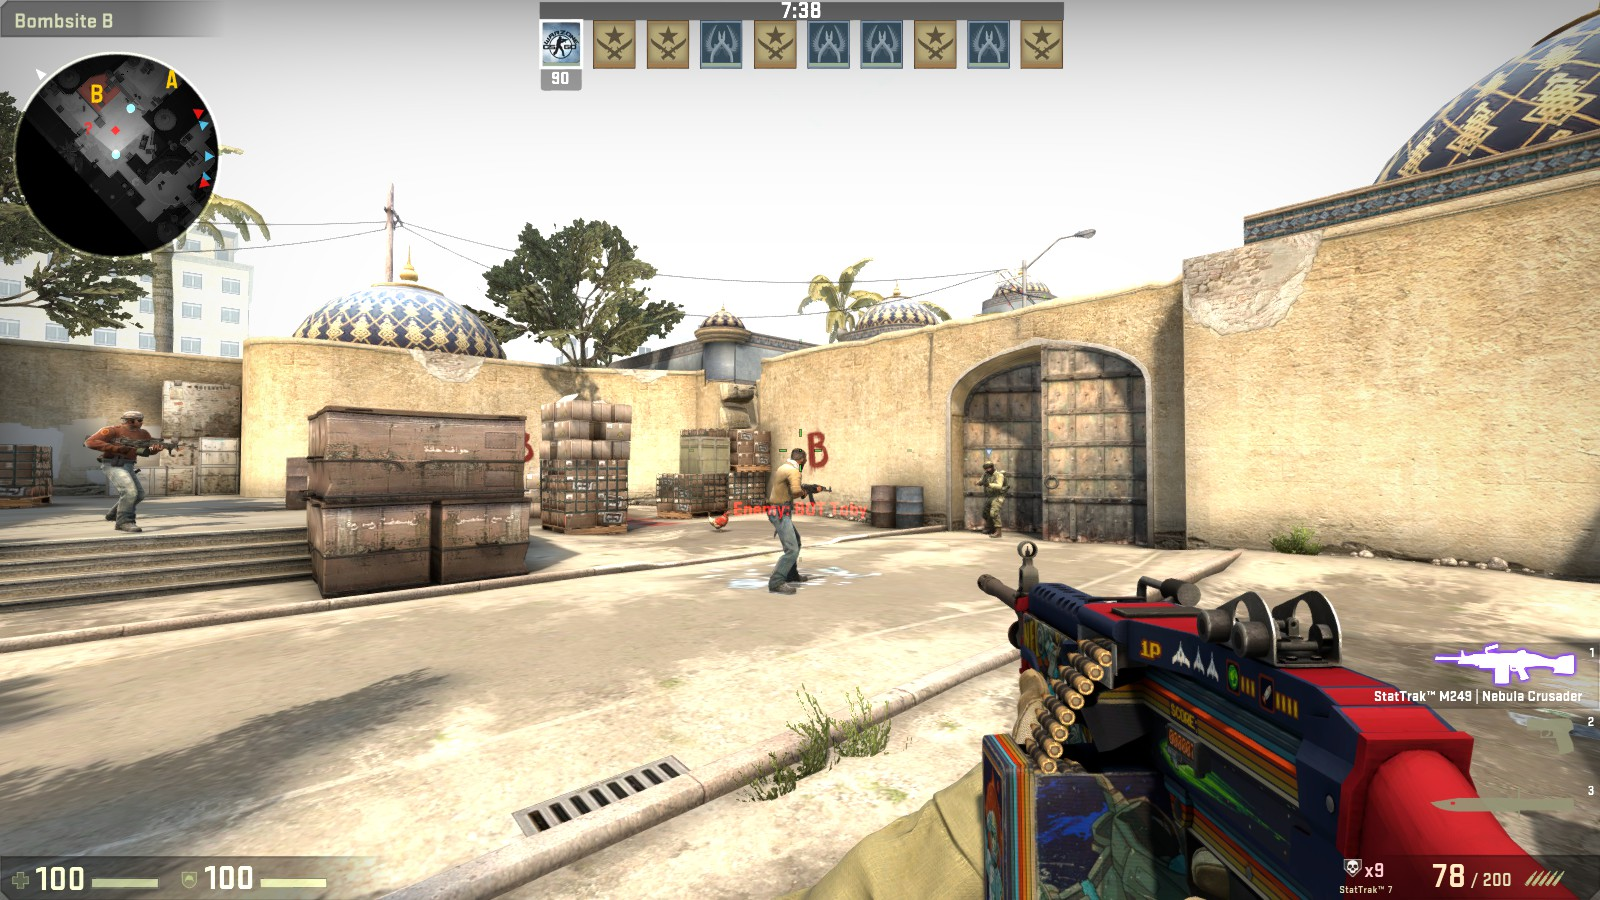c: (974, 460, 1010, 538)
ch: (977, 458, 1002, 479)
t: (96, 405, 153, 533), (766, 443, 809, 595)
th: (119, 411, 145, 434), (789, 447, 811, 470)
